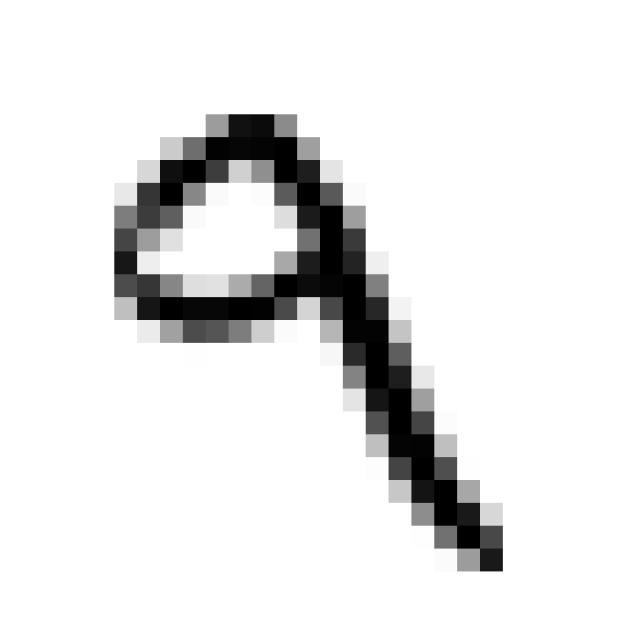9 -nine-: (80, 91, 529, 598)
